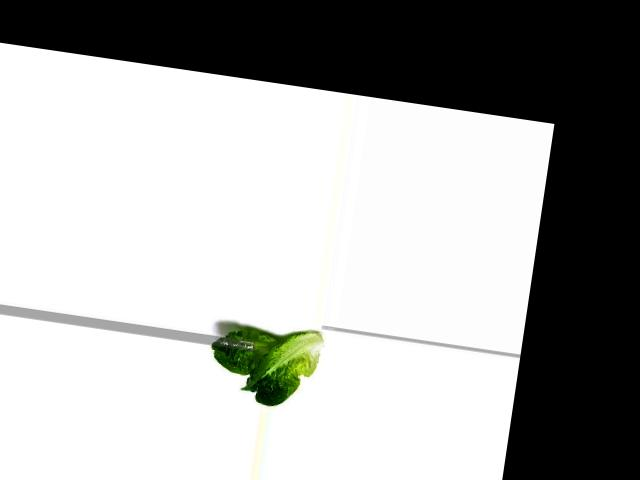lettuce: (201, 320, 326, 413)
